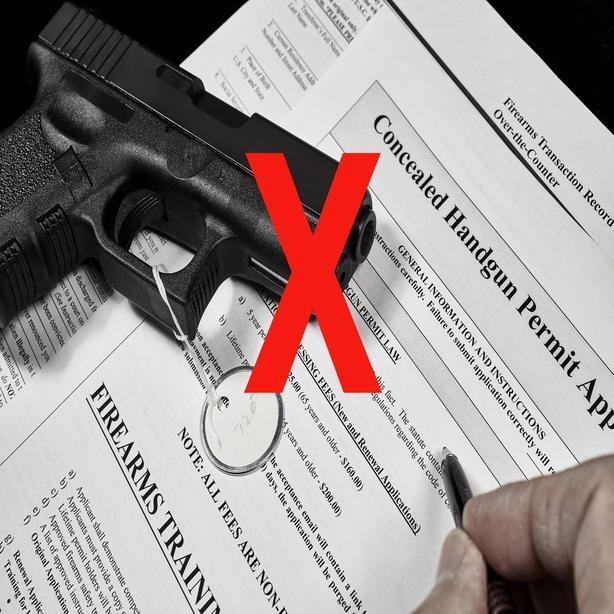Firearm: (1, 0, 383, 348)
